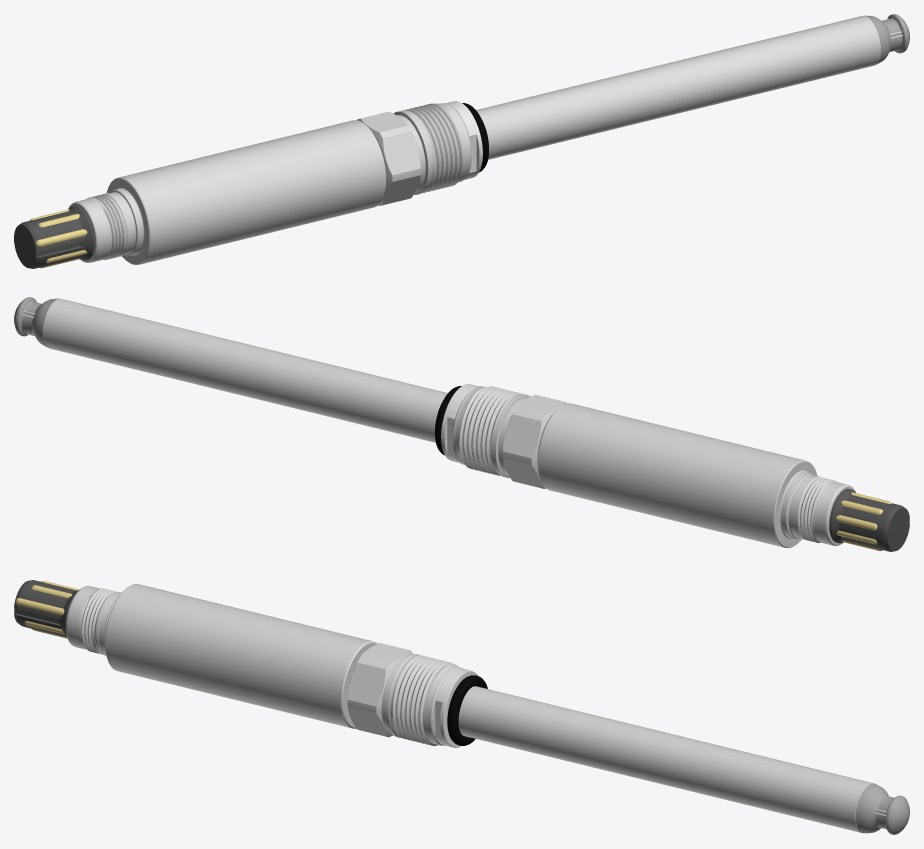
The model's file is Hamilton Sensor_4k.glb.
3 renders of one model, top to bottom at view 1: azimuth 30°, elevation 25°; view 2: azimuth 150°, elevation 25°; view 3: azimuth 330°, elevation 25°, orthographic.
Parts seen in each view (by area): view 1: STEP243950; view 2: STEP243950; view 3: STEP243950.
Part boxes in pixels (x1,y1,x2,y2): STEP243950: (14,14,909,268); STEP243950: (14,297,909,551); STEP243950: (14,580,909,834).
Size of the model in its own units: 0.2383 by 0.021 by 0.021.
